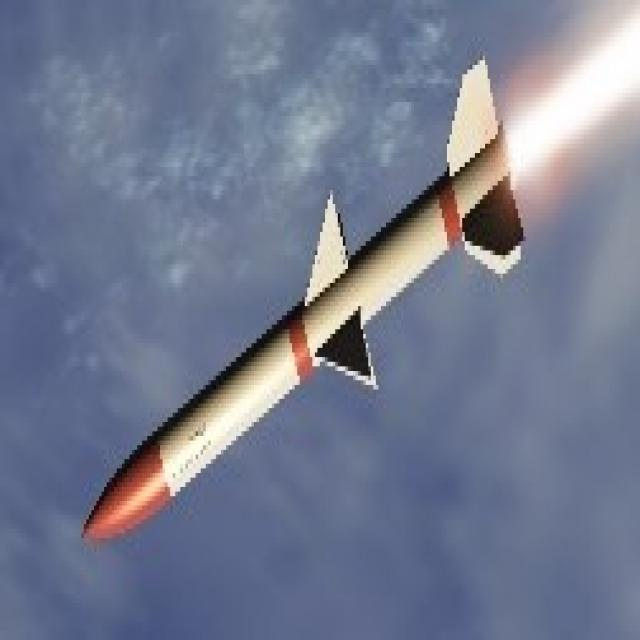missile: (79, 56, 532, 551)
